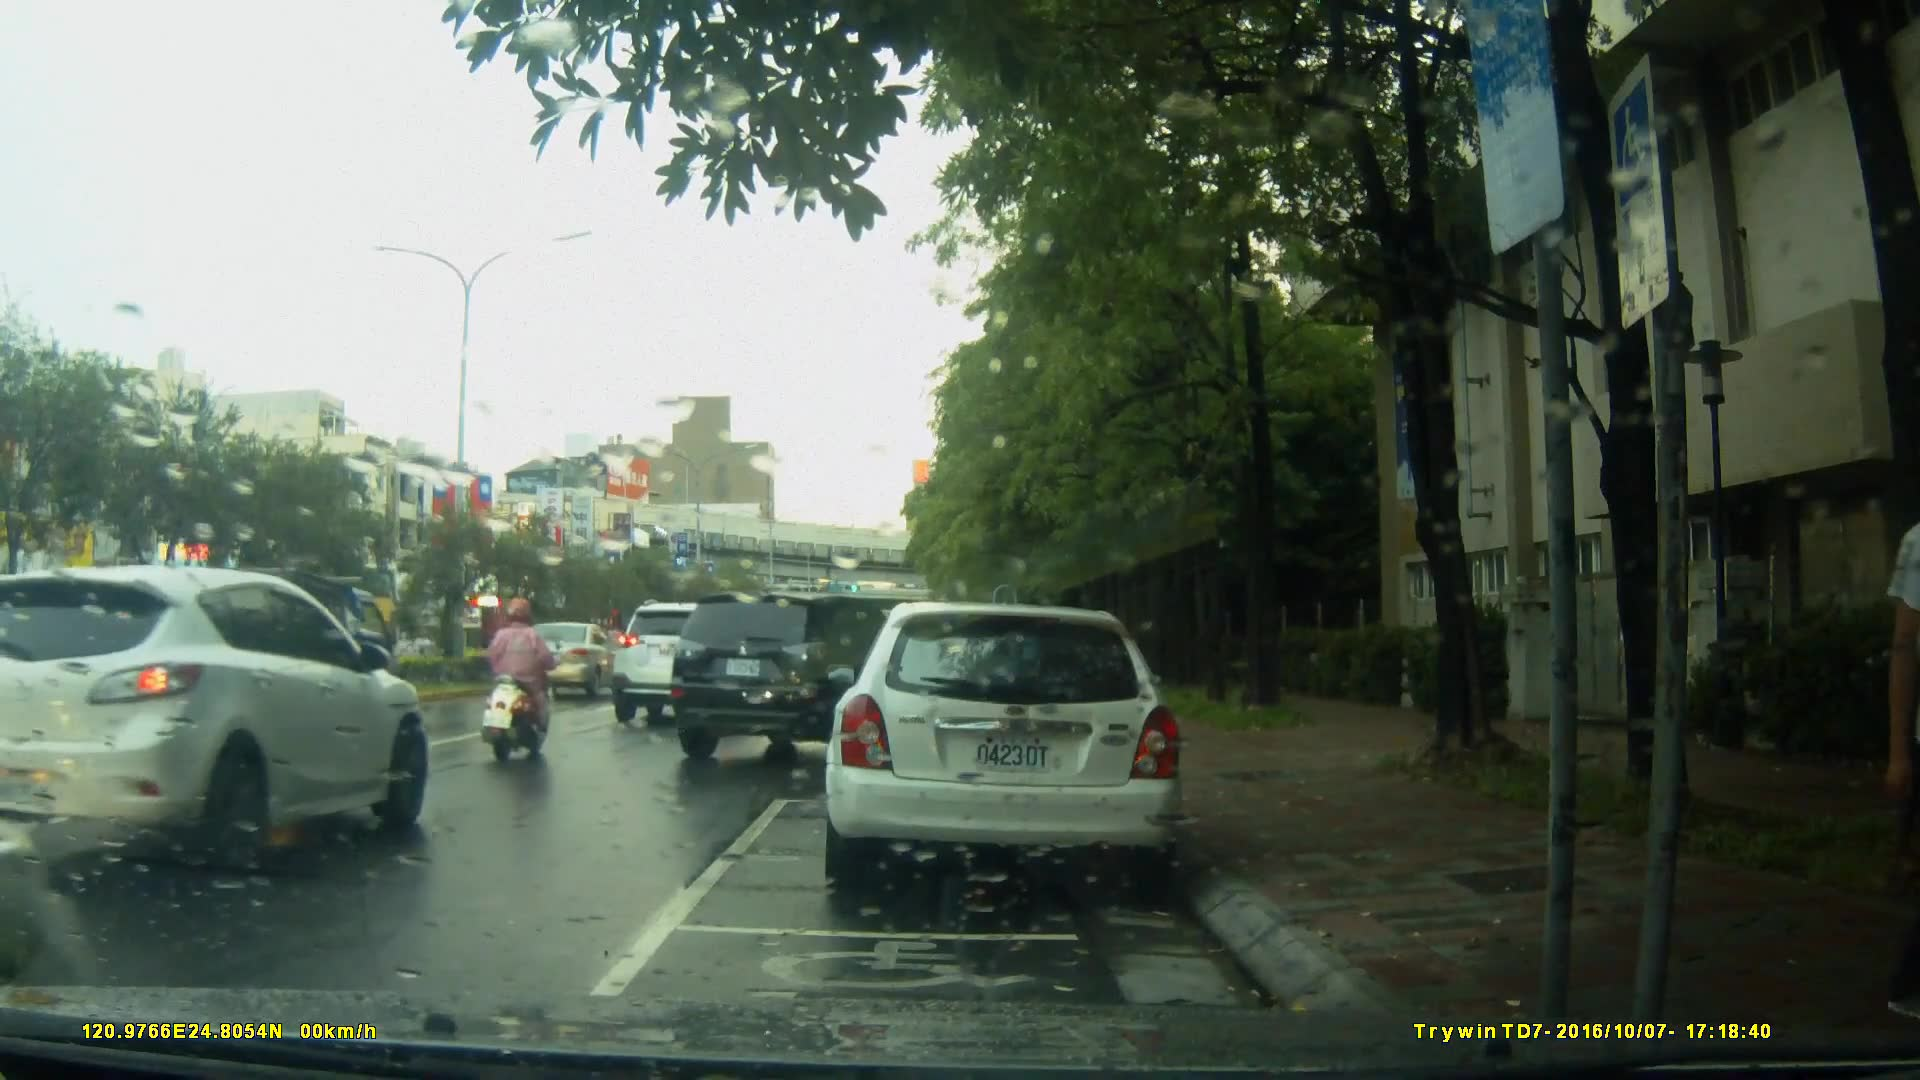pedestrian: (1869, 405, 1920, 1026)
rider: (484, 597, 556, 762)
vehicle: (1, 564, 447, 884), (820, 602, 1188, 898), (657, 588, 924, 764), (612, 601, 760, 725), (509, 619, 617, 702)
